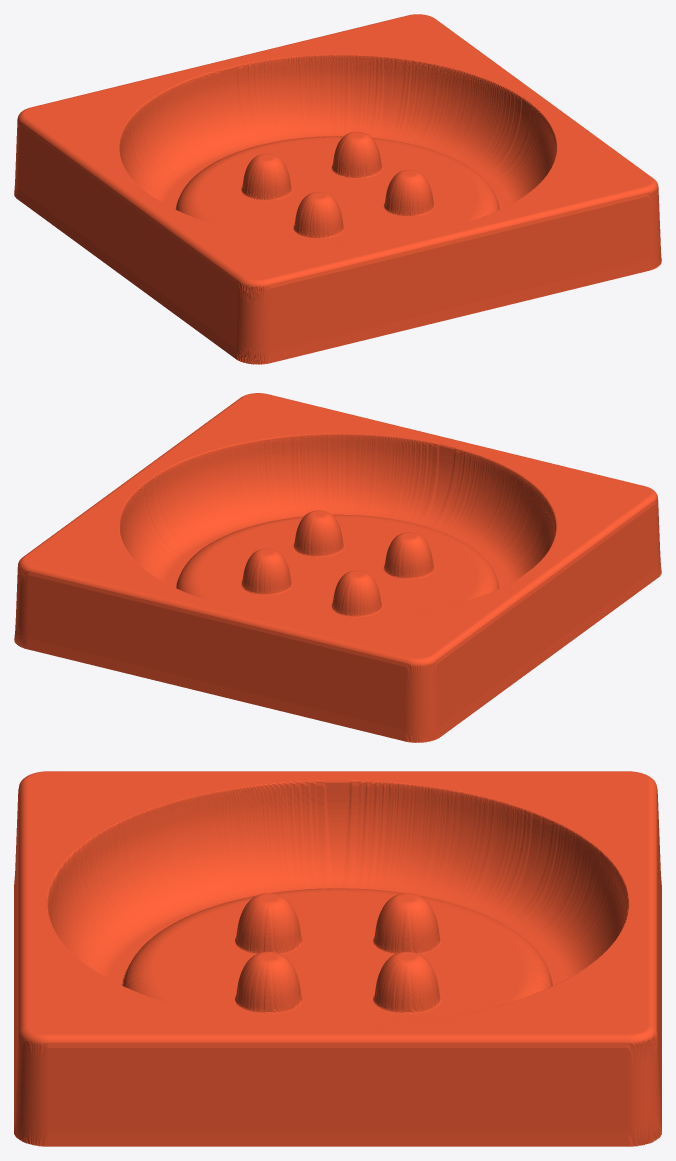
The model's file is mold.glb.
3 renders of one model, top to bottom at view 1: azimuth 30°, elevation 25°; view 2: azimuth 150°, elevation 25°; view 3: azimuth 270°, elevation 25°, orthographic. The views are drawn at different scales.
Visible parts, largest first — view 1: geometry_0; view 2: geometry_0; view 3: geometry_0.
Boxes of the visible parts, x1,y1,x2,y2 form: geometry_0: (14, 14, 661, 364); geometry_0: (14, 393, 661, 742); geometry_0: (14, 771, 661, 1146).
Bounding box in the file's own units: 0.1709 × 0.031 × 0.1709.
